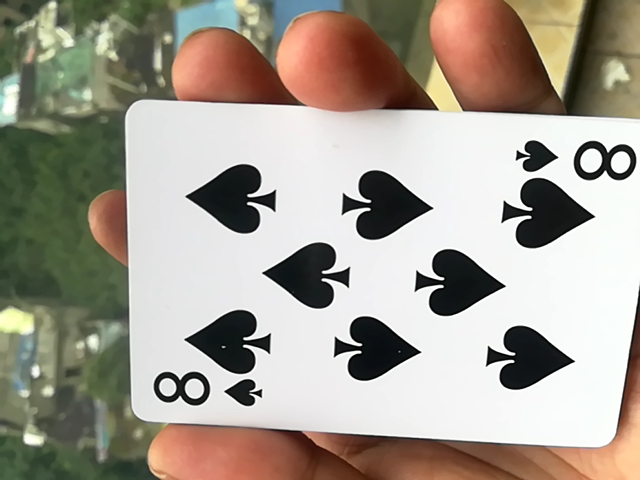ht 8: (115, 101, 633, 459)
